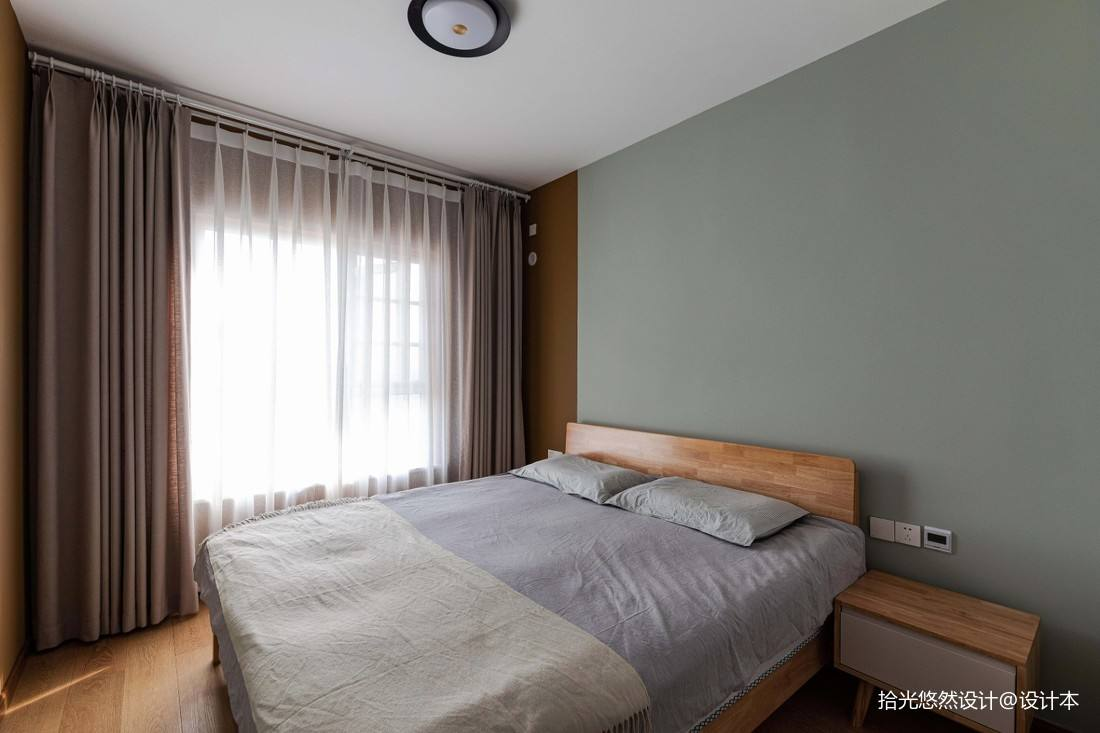床: (185, 475, 855, 729)
枕头: (513, 458, 805, 544)
灯: (402, 2, 517, 65)
